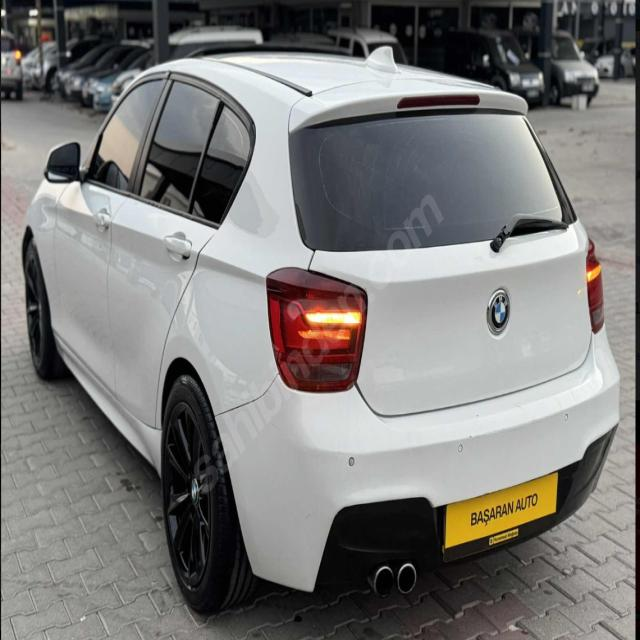bmw: (485, 285, 512, 341)
